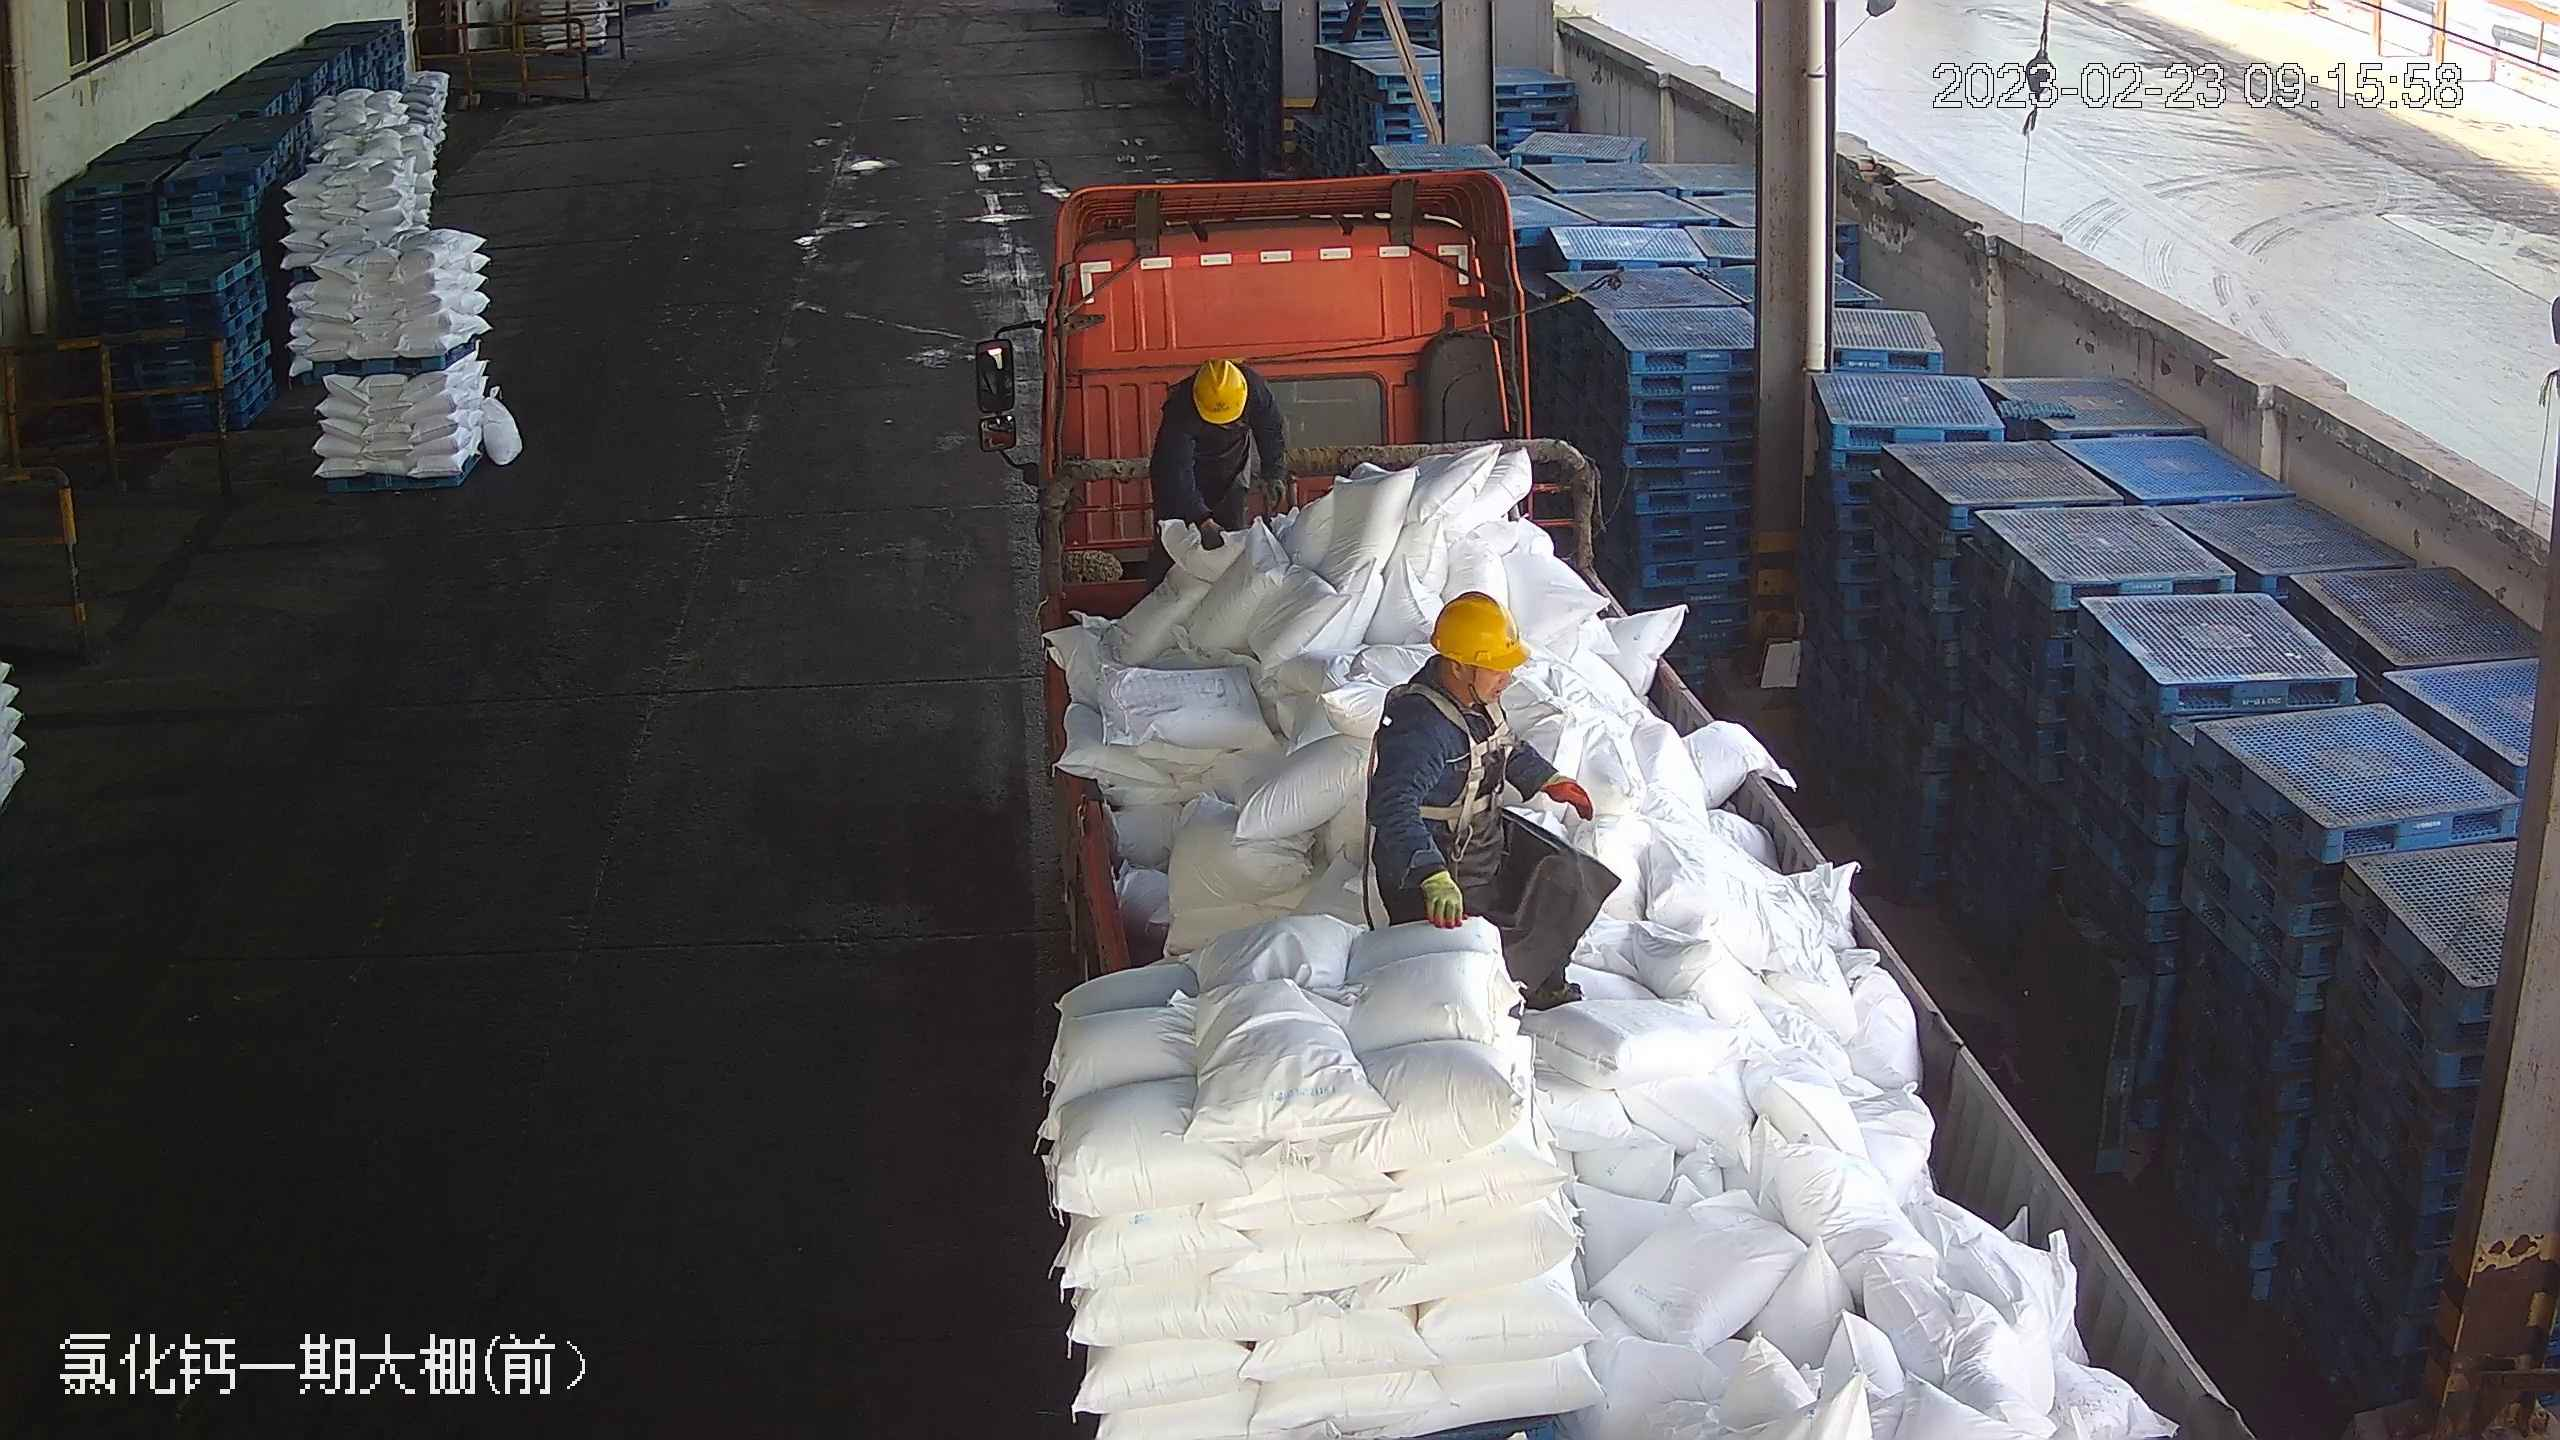belt: (1385, 679, 1515, 828), (1215, 348, 1294, 380)
head: (1380, 593, 1533, 773), (1170, 352, 1269, 440)
helmet: (1429, 590, 1528, 671), (1190, 355, 1251, 428)
people: (1369, 589, 1614, 1032), (1146, 348, 1292, 561)
truck: (971, 156, 2262, 1440)
